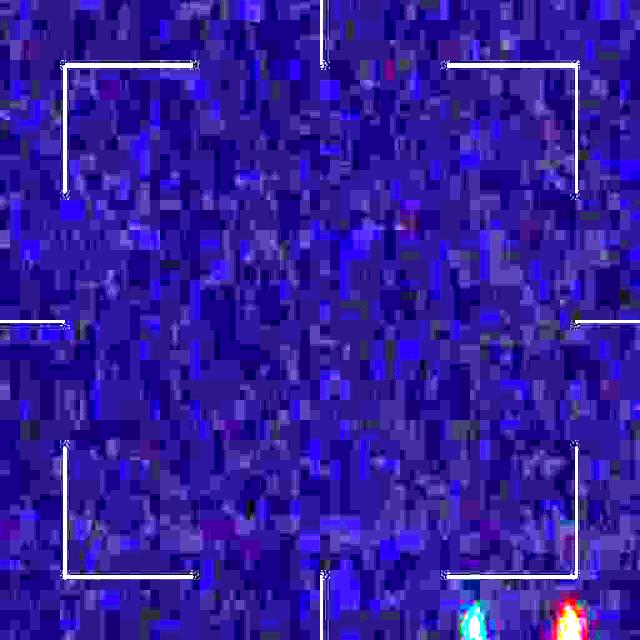bird: (464, 590, 582, 640)
